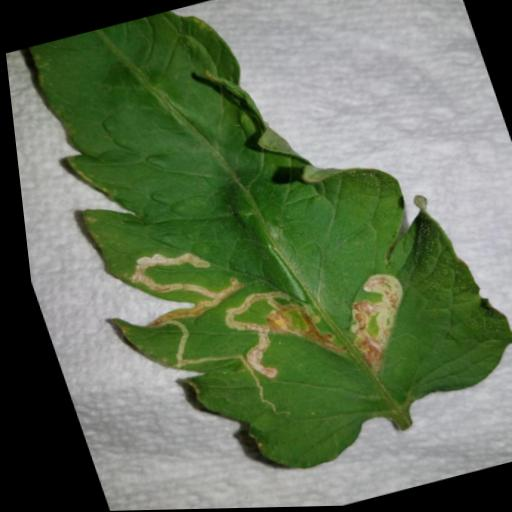Leaf_Miner: (6, 0, 512, 508)
